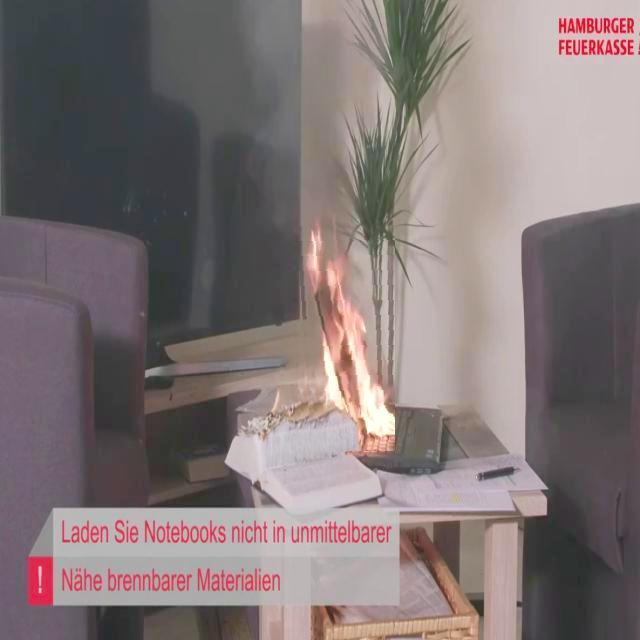fire: (238, 3, 350, 225)
smoke: (296, 218, 394, 452)
